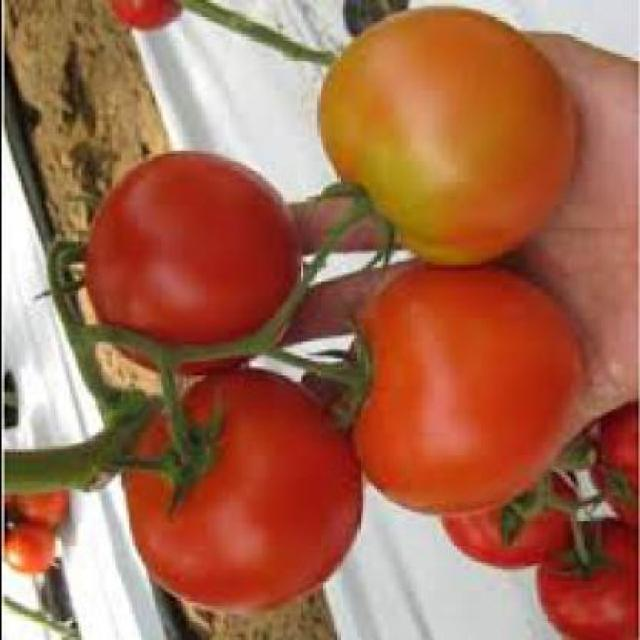BIODEGRADABLE: (320, 8, 575, 264), (122, 368, 362, 609), (355, 265, 581, 511), (88, 152, 299, 343), (441, 467, 579, 567), (538, 520, 638, 640), (181, 0, 335, 64), (591, 402, 639, 526), (3, 525, 56, 573), (3, 489, 69, 523), (111, 1, 180, 29)
